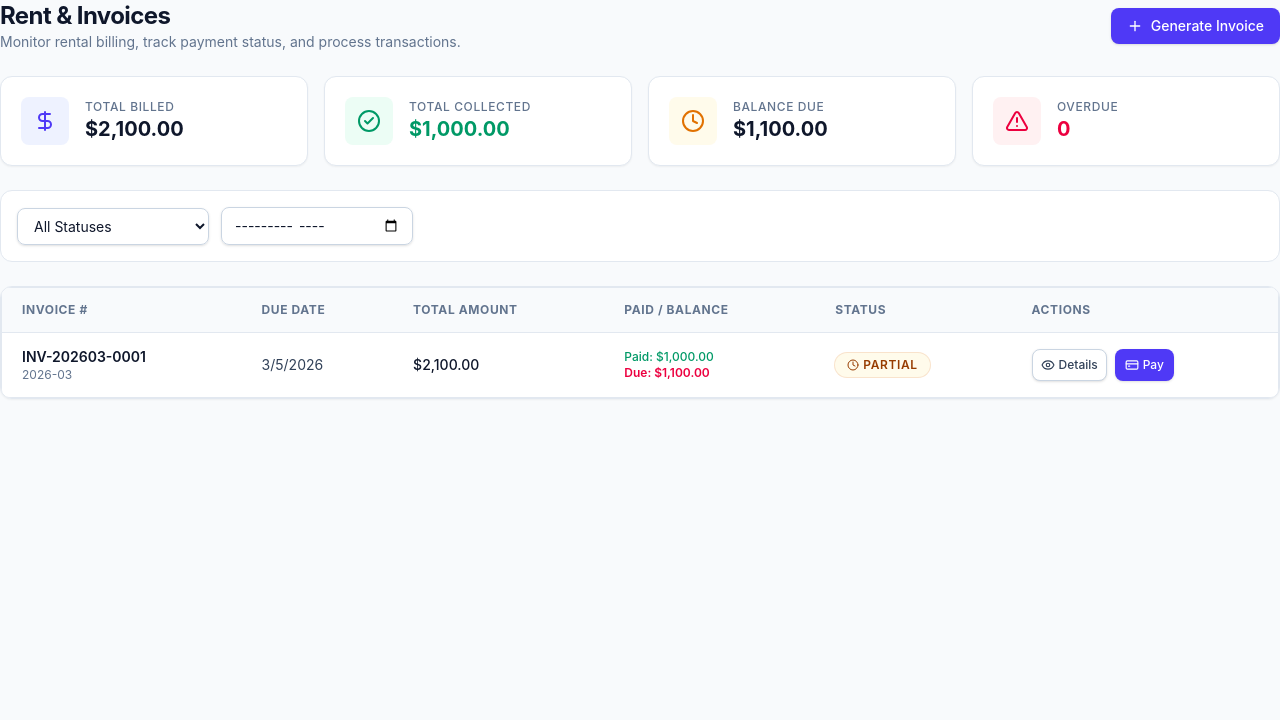
Scenario: InvoicesPage Component › opens record payment modal when clicking Pay button
Expected: the text "INV-202603-0001" is shown, [22, 348, 146, 365]
Click the button "Pay" at (1144, 365), box [1115, 349, 1174, 381]
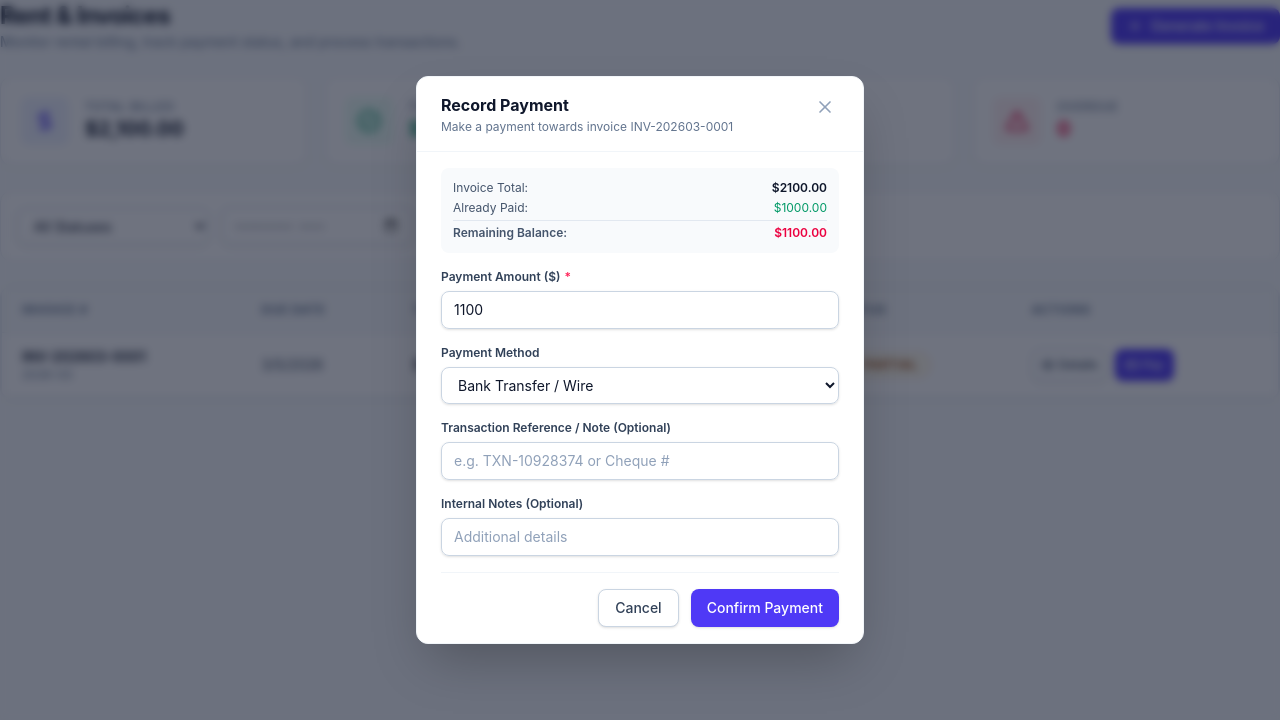
Expected: the heading "Record Payment" is shown, [441, 95, 569, 115]
Expected: the text "Make a payment towards invoice INV-202603-0001" is shown, [441, 119, 733, 135]
